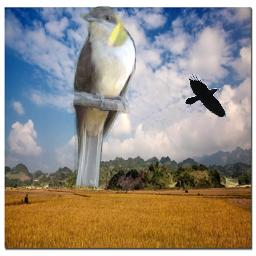Crow: (185, 73, 228, 117)
Cuckoo: (70, 6, 136, 187)
